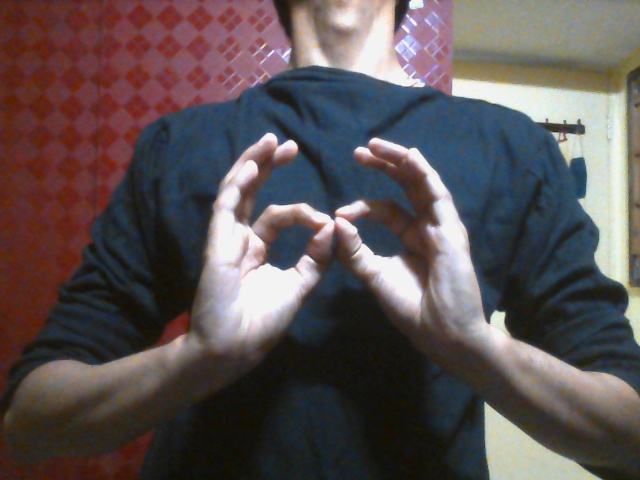B: (194, 132, 486, 397)
